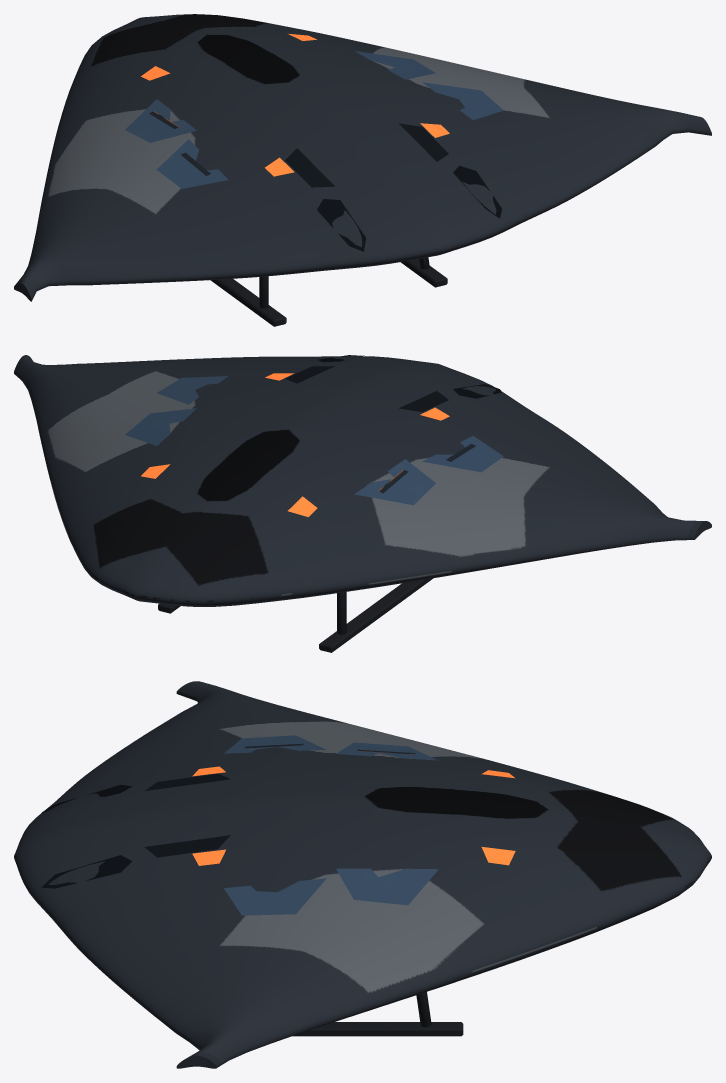
The model's file is WraithStealthWing.fbx.
The picture shows the model from 3 angles, top to bottom: view 1: azimuth 30°, elevation 25°; view 2: azimuth 150°, elevation 25°; view 3: azimuth 270°, elevation 25°; orthographic projection. The views are drawn at different scales.
Visible parts, largest first — view 1: WraithStealthWing_UnifiedMesh; view 2: WraithStealthWing_UnifiedMesh; view 3: WraithStealthWing_UnifiedMesh.
Boxes of the visible parts, x1,y1,x2,y2 form: WraithStealthWing_UnifiedMesh: (14,14,711,326); WraithStealthWing_UnifiedMesh: (14,355,711,652); WraithStealthWing_UnifiedMesh: (14,681,711,1068).
Bounding box in the file's own units: 490 × 118 × 386.
1 material, 1 textured.
